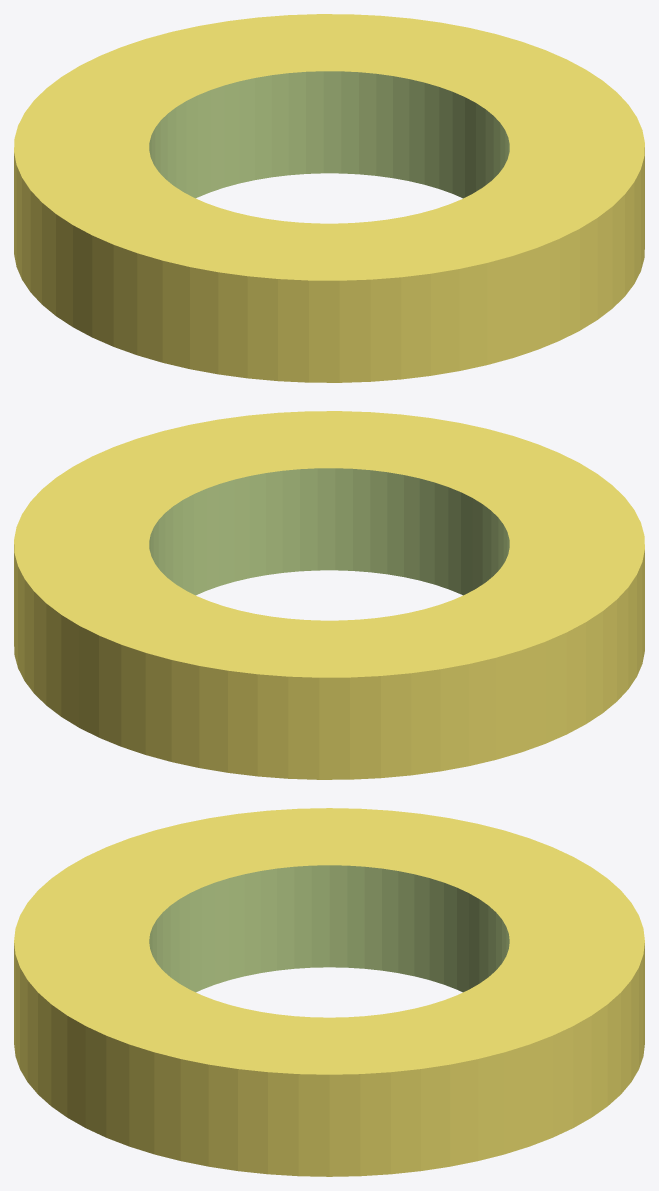
The model's file is washer.glb.
3 renders of one model, top to bottom at view 1: azimuth 30°, elevation 25°; view 2: azimuth 150°, elevation 25°; view 3: azimuth 270°, elevation 25°, orthographic.
Size of the model in its own units: 28 by 5 by 28.
